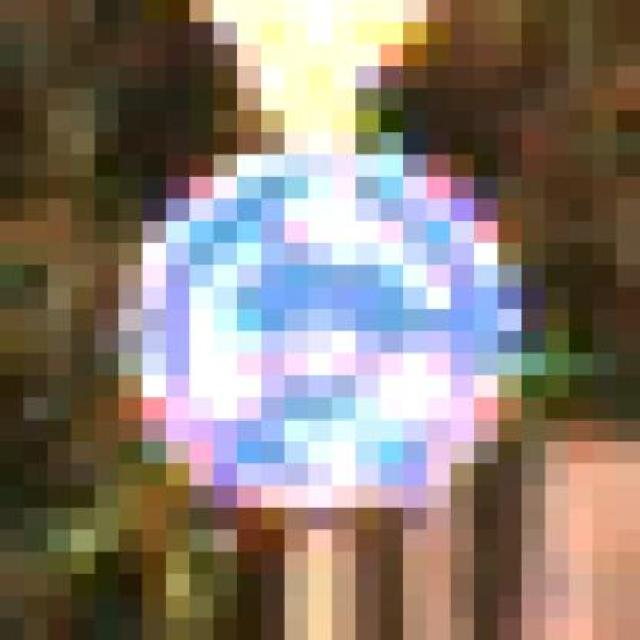Round-About: (71, 132, 569, 552)
